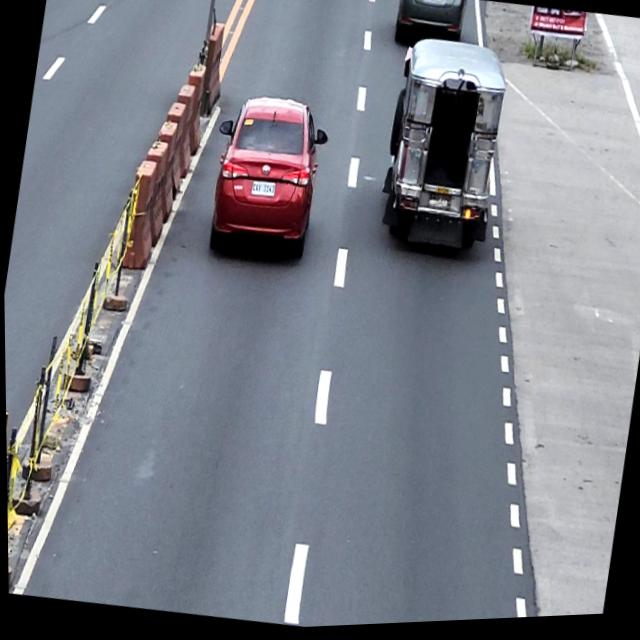Car: (199, 89, 336, 272), (392, 0, 466, 58)
Jeep: (372, 34, 515, 262)
License-Plate: (250, 182, 275, 201), (427, 195, 452, 214), (425, 0, 443, 6)
